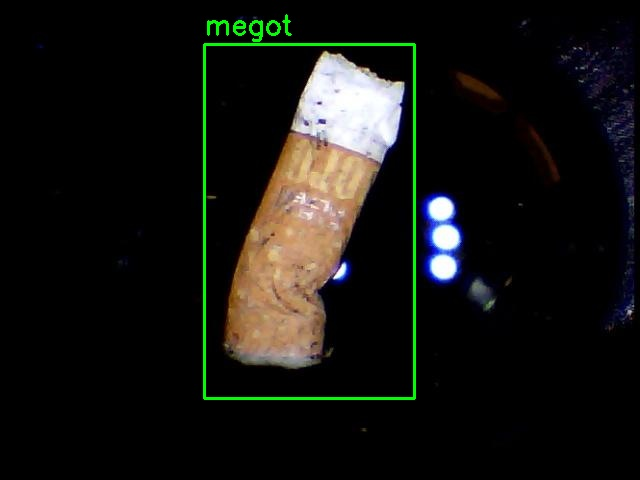megot: (204, 44, 414, 398)
